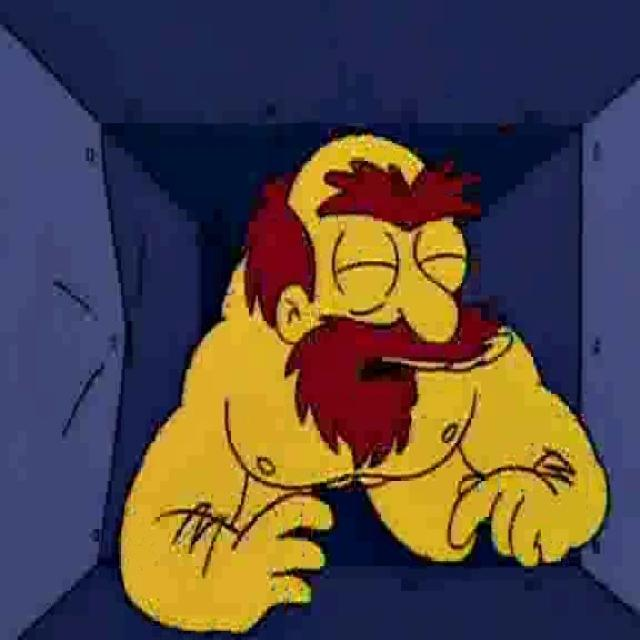Groundskeeper Willie: (239, 124, 503, 484)
